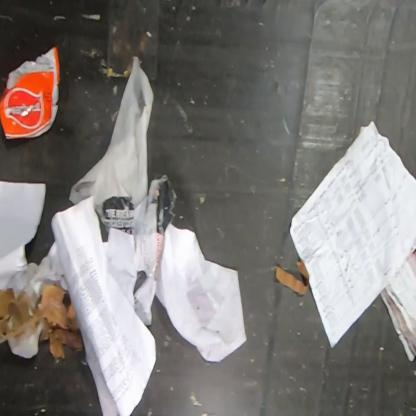cardboard: (0, 282, 86, 361)
rigid_plastic: (107, 0, 162, 84)
soft_plastic: (0, 45, 60, 140)
